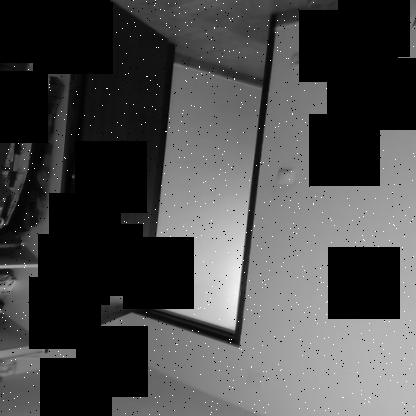Porte: (51, 1, 274, 351)
